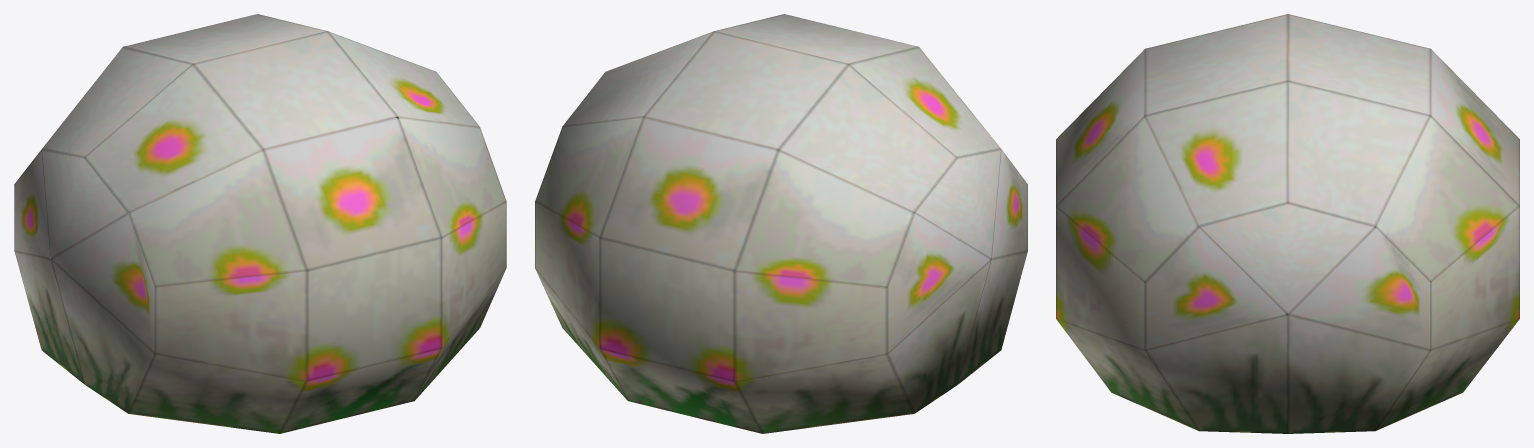
The picture shows the model from 3 angles, left to right: view 1: azimuth 30°, elevation 25°; view 2: azimuth 150°, elevation 25°; view 3: azimuth 270°, elevation 25°; orthographic projection.
Parts seen in each view (by area): view 1: T1L7M007_7; view 2: T1L7M007_7; view 3: T1L7M007_7.
Part boxes in pixels (box(x1,y1,x2,y2)): T1L7M007_7: box(14, 14, 506, 433); T1L7M007_7: box(535, 14, 1027, 433); T1L7M007_7: box(1056, 14, 1519, 433).
Size of the model in its own units: 0.3135 by 0.2256 by 0.2949.
